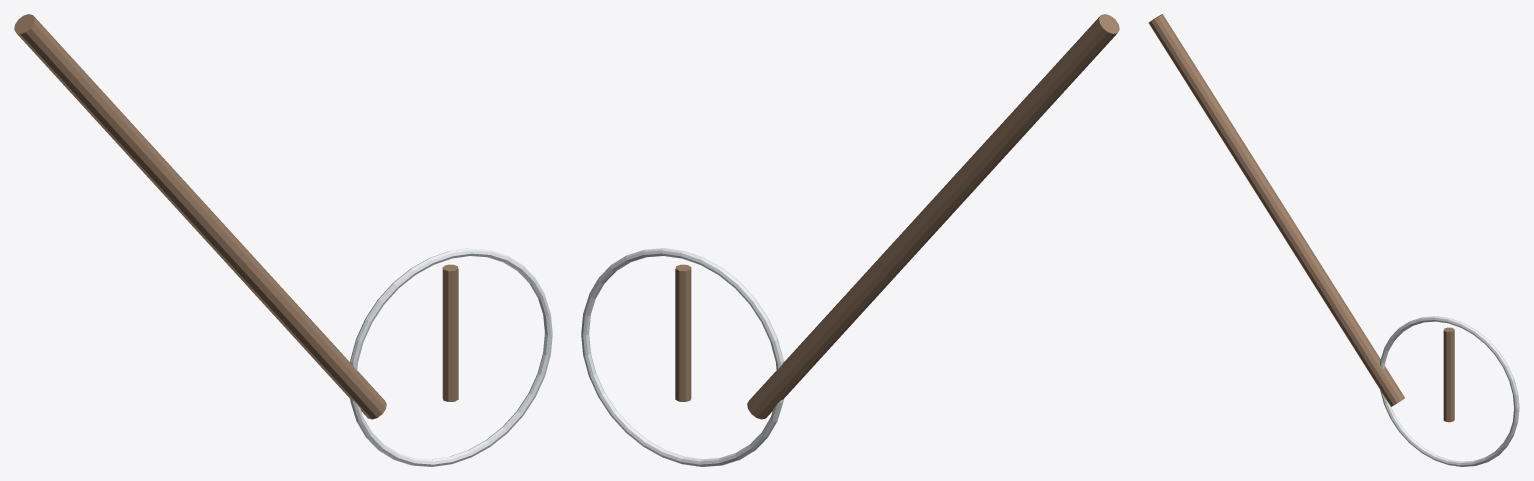
File: wire_snare.glb
3 renders of one model, left to right at view 1: azimuth 30°, elevation 25°; view 2: azimuth 150°, elevation 25°; view 3: azimuth 330°, elevation 25°, orthographic. The views are drawn at different scales.
Parts seen in each view (by area): view 1: WireSnareModel; view 2: WireSnareModel; view 3: WireSnareModel.
Part boxes in pixels (<box>): WireSnareModel: <box>14,14,552,466</box>; WireSnareModel: <box>581,14,1119,466</box>; WireSnareModel: <box>1148,14,1519,466</box>.
Size of the model in its own units: 3 by 2.95 by 0.12.
